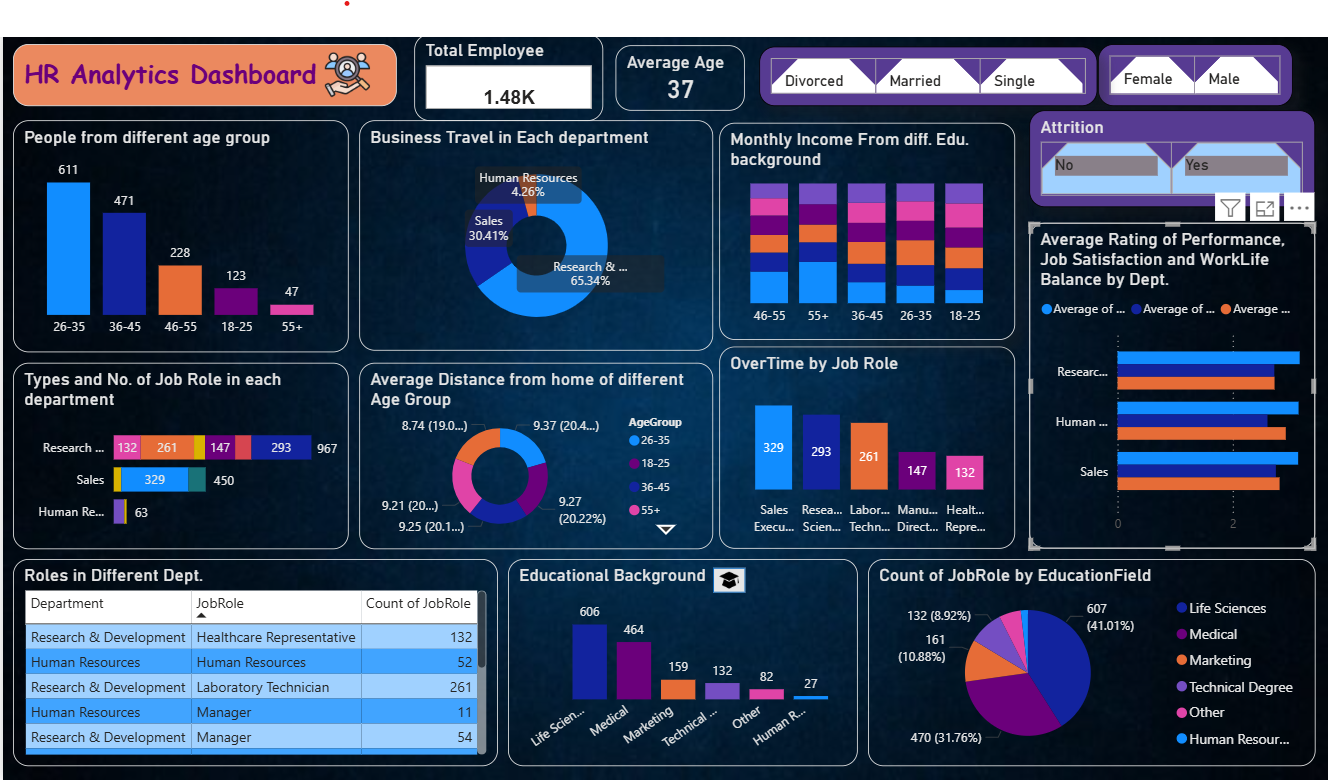

This screenshot's page, from the dashboard's own definition file:
{"tool":"powerbi","page":{"name":"Page 1","canvas":[1280,720],"ordinal":0},"visuals":[{"type":"textbox","box":[9.7,9.7,370.4,60.3],"z":0},{"type":"columnChart","title":"People from different age group","fields":{"Y":["CountNonNull(HR_Analytics (1).Age)"],"Category":["HR_Analytics (1).AgeGroup"],"Series":["HR_Analytics (1).AgeGroup"]},"box":[9.6,83.7,323.8,223.7],"z":1000},{"type":"barChart","title":"Types and No. of  Job Role in each department ","fields":{"Category":["HR_Analytics (1).Department"],"Series":["HR_Analytics (1).JobRole"],"Y":["CountNonNull(HR_Analytics (1).JobRole)"]},"box":[9.6,317,323.8,179.8],"z":2000},{"type":"donutChart","title":"Business Travel in Each department","fields":{"Category":["HR_Analytics (1).Department"],"Y":["CountNonNull(HR_Analytics (1).BusinessTravel)"]},"box":[344.4,83.7,341.7,222.3],"z":3000},{"type":"advancedSlicerVisual","fields":{"Values":["HR_Analytics (1).Gender"]},"box":[1056.6,9.6,188,60.4],"z":4000},{"type":"columnChart","title":"OverTime by Job Role","fields":{"Category":["HR_Analytics (1).JobRole"],"Y":["CountNonNull(HR_Analytics (1).OverTime)"],"Series":["HR_Analytics (1).JobRole"]},"box":[691.6,301.9,285.4,194.9],"z":5000},{"type":"advancedSlicerVisual","fields":{"Values":["HR_Analytics (1).MaritalStatus"]},"box":[730,12.3,326.6,57.6],"z":6000},{"type":"donutChart","title":"Average Distance from home of different Age Group","fields":{"Y":["Avg(HR_Analytics (1).DistanceFromHome)"],"Category":["HR_Analytics (1).AgeGroup"]},"box":[343.8,317.3,341.4,179.8],"z":7000},{"type":"cardVisual","title":"Total Employee","fields":{"Data":["CountNonNull(HR_Analytics (1).EmpID)"]},"box":[396.6,0,182.5,83.7],"z":8000},{"type":"card","title":"Average Age","fields":{"Values":["Avg(HR_Analytics (1).Age)"]},"box":[591.4,11,124.9,63.1],"z":9000},{"type":"tableEx","title":"Roles in Different Dept.","fields":{"Values":["HR_Analytics (1).Department","HR_Analytics (1).JobRole","CountNonNull(HR_Analytics (1).JobRole)"]},"box":[9.7,506.7,468.1,200.3],"z":10000},{"type":"columnChart","title":"Educational Background","fields":{"Category":["HR_Analytics (1).EducationField"],"Y":["Count(HR_Analytics (1).EmpID)"],"Series":["HR_Analytics (1).EducationField"]},"box":[487.4,506.7,337.8,200.3],"z":11000},{"type":"pieChart","fields":{"Category":["HR_Analytics (1).EducationField"],"Y":["CountNonNull(HR_Analytics (1).JobRole)"]},"box":[834.3,506.3,432.2,200.3],"z":12000},{"type":"hundredPercentStackedColumnChart","title":"Monthly Income From diff. Edu. background","fields":{"Category":["HR_Analytics (1).AgeGroup"],"Y":["Avg(HR_Analytics (1).MonthlyIncome)"],"Series":["HR_Analytics (1).EducationField"]},"box":[691.6,85.1,285.4,209.9],"z":13000},{"type":"clusteredBarChart","title":"Average Rating of Performance, Job Satisfaction and WorkLife Balance by Dept.","fields":{"Category":["HR_Analytics (1).Department"],"Y":["Avg(HR_Analytics (1).PerformanceRating)","Avg(HR_Analytics (1).JobSatisfaction)","Avg(HR_Analytics (1).WorkLifeBalance)"]},"box":[990.7,182.5,275.8,314.2],"z":14000},{"type":"advancedSlicerVisual","fields":{"Values":["HR_Analytics (1).Attrition"]},"box":[990.7,74.1,275.8,93.3],"z":15000},{"type":"image","box":[305.2,12.1,54.3,54.3],"z":16000},{"type":"shape","box":[685.3,515.2,31.4,24.1],"z":17000},{"type":"image","box":[685.3,509.1,31.4,36.2],"z":18000}]}

Visuals, with their boxes in screenshot pixels (x1, y1, x2, y2):
textbox: pyautogui.locateOnScreen(0, 34, 393, 98)
"People from different age group" columnChart: pyautogui.locateOnScreen(0, 113, 343, 350)
"Types and No. of  Job Role in each department " barChart: pyautogui.locateOnScreen(0, 360, 343, 551)
"Business Travel in Each department" donutChart: pyautogui.locateOnScreen(355, 113, 717, 349)
advancedSlicerVisual - HR_Analytics (1).Gender: pyautogui.locateOnScreen(1110, 34, 1310, 98)
"OverTime by Job Role" columnChart: pyautogui.locateOnScreen(723, 344, 1026, 551)
advancedSlicerVisual - HR_Analytics (1).MaritalStatus: pyautogui.locateOnScreen(764, 37, 1110, 98)
"Average Distance from home of different Age Group" donutChart: pyautogui.locateOnScreen(354, 361, 716, 552)
"Total Employee" cardVisual: pyautogui.locateOnScreen(410, 24, 604, 113)
"Average Age" card: pyautogui.locateOnScreen(617, 36, 749, 103)
"Roles in Different Dept." tableEx: pyautogui.locateOnScreen(0, 562, 496, 774)
"Educational Background" columnChart: pyautogui.locateOnScreen(507, 562, 865, 774)
pieChart - HR_Analytics (1).EducationField x CountNonNull(HR_Analytics (1).JobRole): pyautogui.locateOnScreen(875, 561, 1327, 774)
"Monthly Income From diff. Edu. background" hundredPercentStackedColumnChart: pyautogui.locateOnScreen(723, 114, 1026, 337)
"Average Rating of Performance, Job Satisfaction and WorkLife Balance by Dept." clusteredBarChart: pyautogui.locateOnScreen(1041, 218, 1327, 551)
advancedSlicerVisual - HR_Analytics (1).Attrition: pyautogui.locateOnScreen(1041, 103, 1327, 202)
image: pyautogui.locateOnScreen(313, 37, 371, 95)
shape: pyautogui.locateOnScreen(717, 571, 750, 596)
image: pyautogui.locateOnScreen(717, 564, 750, 603)
